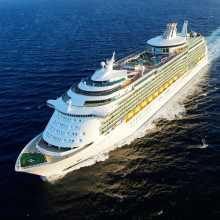youlun: (13, 18, 212, 180)
